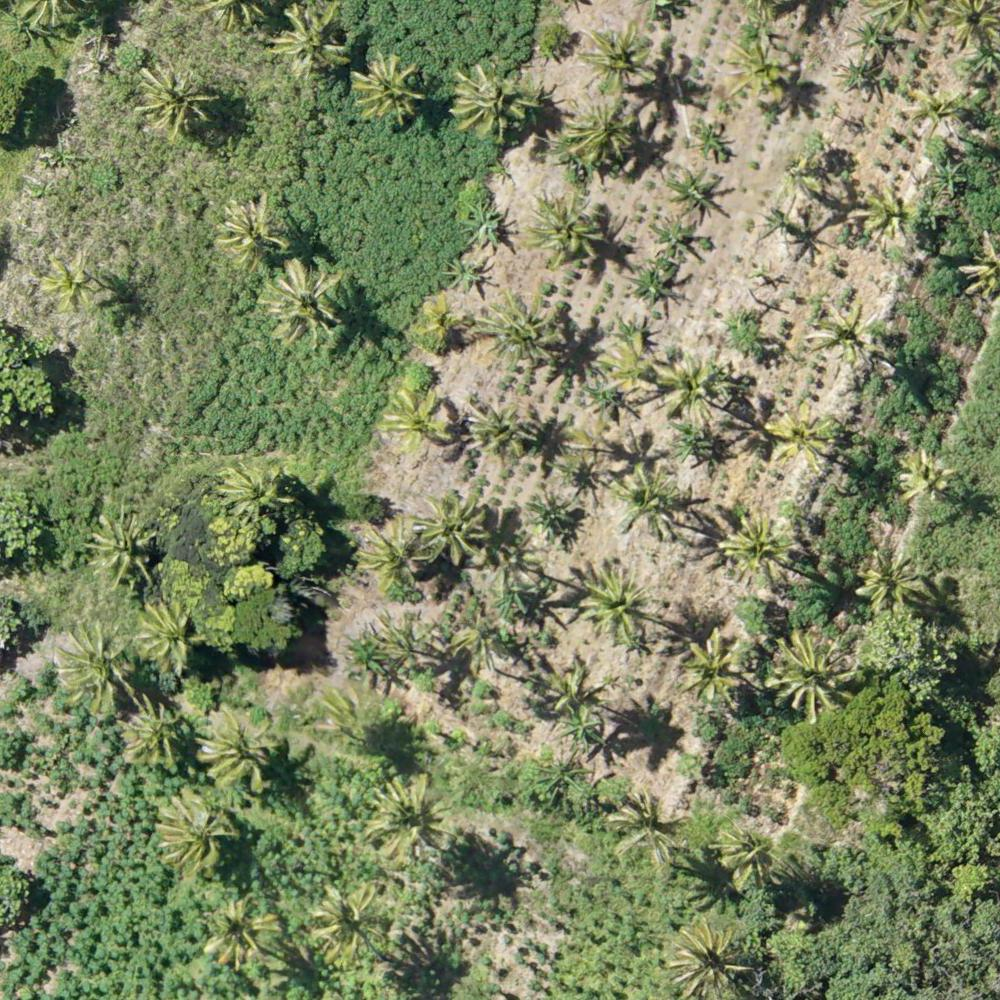Palm: (367, 774, 451, 866), (49, 626, 136, 713), (767, 628, 854, 713), (262, 258, 345, 340), (667, 916, 752, 996), (269, 2, 354, 82), (158, 785, 236, 872), (448, 63, 533, 142), (655, 349, 736, 431), (87, 507, 164, 591), (137, 61, 221, 136), (605, 459, 685, 536), (312, 882, 391, 958), (583, 562, 654, 645), (415, 490, 491, 567), (612, 789, 685, 869), (479, 293, 552, 372), (201, 709, 273, 789), (721, 508, 796, 583), (683, 626, 753, 706), (207, 896, 282, 969), (357, 518, 430, 592), (132, 600, 204, 673), (349, 54, 421, 126), (808, 298, 882, 368), (720, 34, 796, 102), (382, 389, 454, 459), (464, 394, 532, 466), (534, 198, 604, 265), (762, 400, 834, 464), (215, 458, 286, 522), (582, 29, 653, 93), (122, 697, 185, 767), (564, 104, 634, 167), (222, 198, 287, 265), (856, 545, 922, 609), (717, 819, 780, 882), (853, 182, 915, 243), (893, 446, 949, 501), (38, 254, 93, 310)
